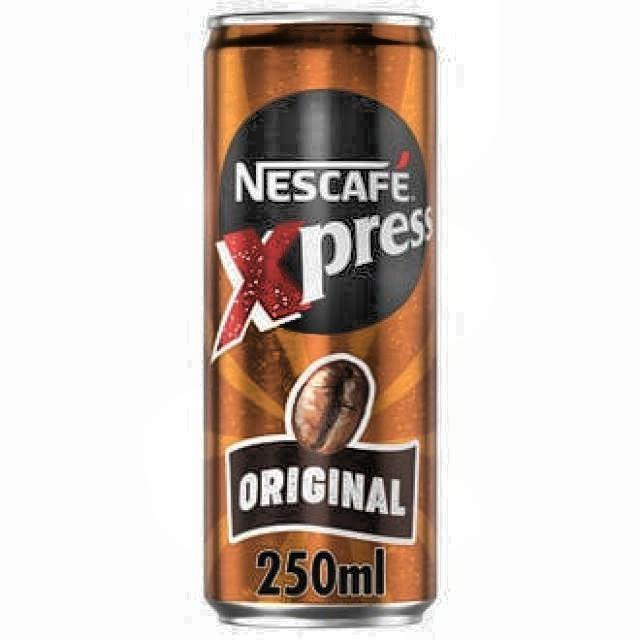metal: (204, 12, 439, 629)
